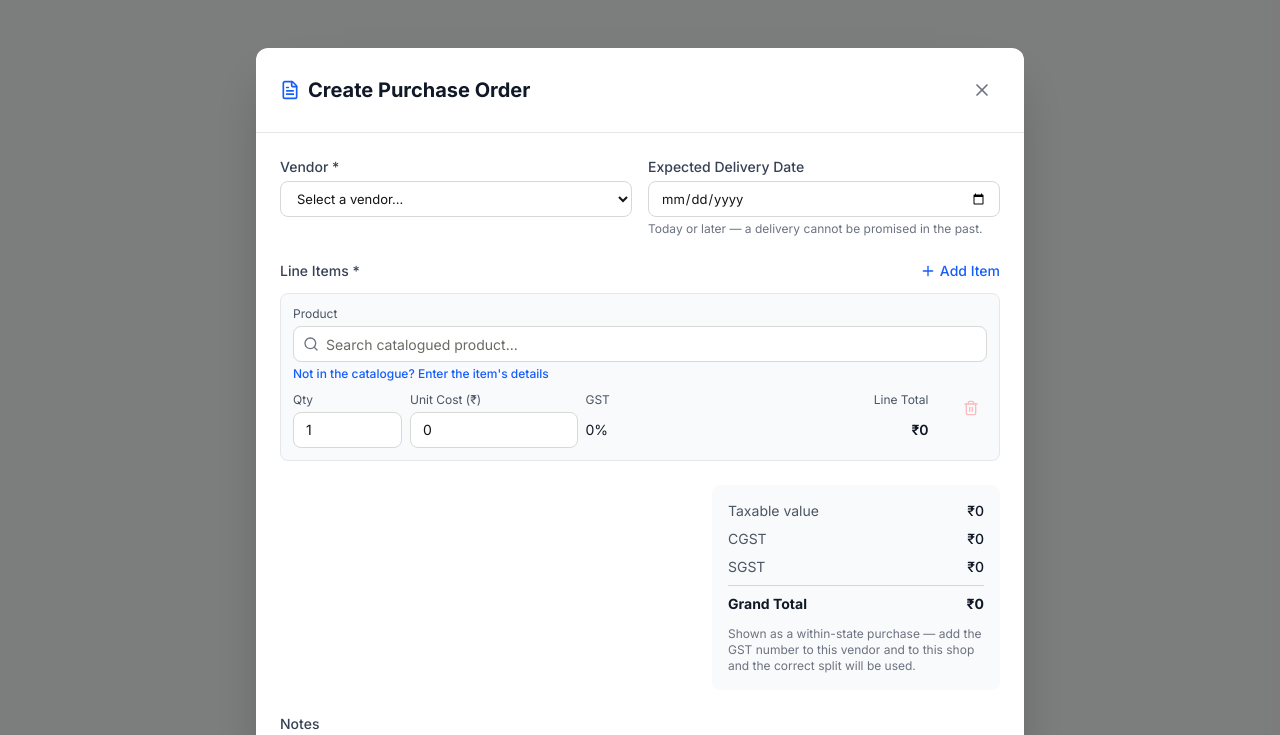
Test: F22 - the price last paid to THIS vendor wins over the catalogue cost › switching vendor after typing a cost shows THAT vendor's last price, never the previous one's
The image size is (1280, 735).
Select "Mumbai Lens House (V-MUM)" in the dropdown named "Vendor" at (456, 199), box [280,181,632,217]
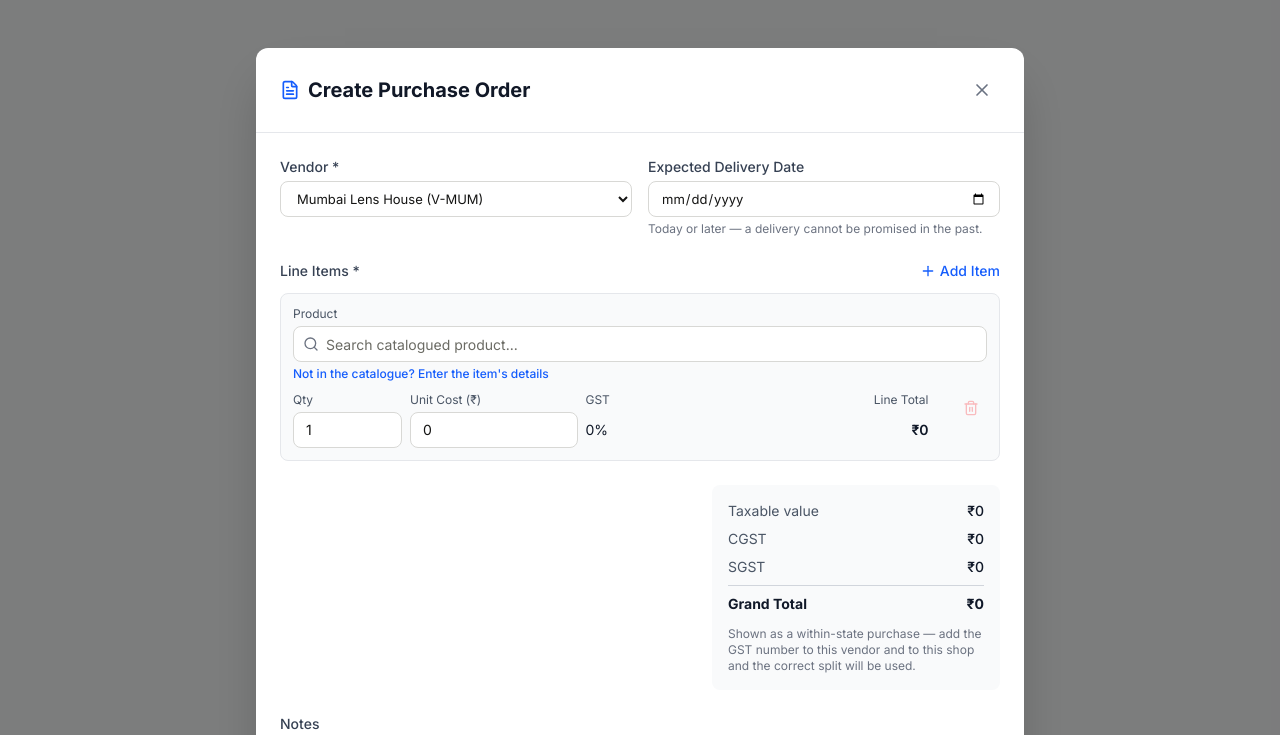
Type "8895" into the field with placeholder "Search catalogued product..." at (640, 344), box [293,326,987,362]
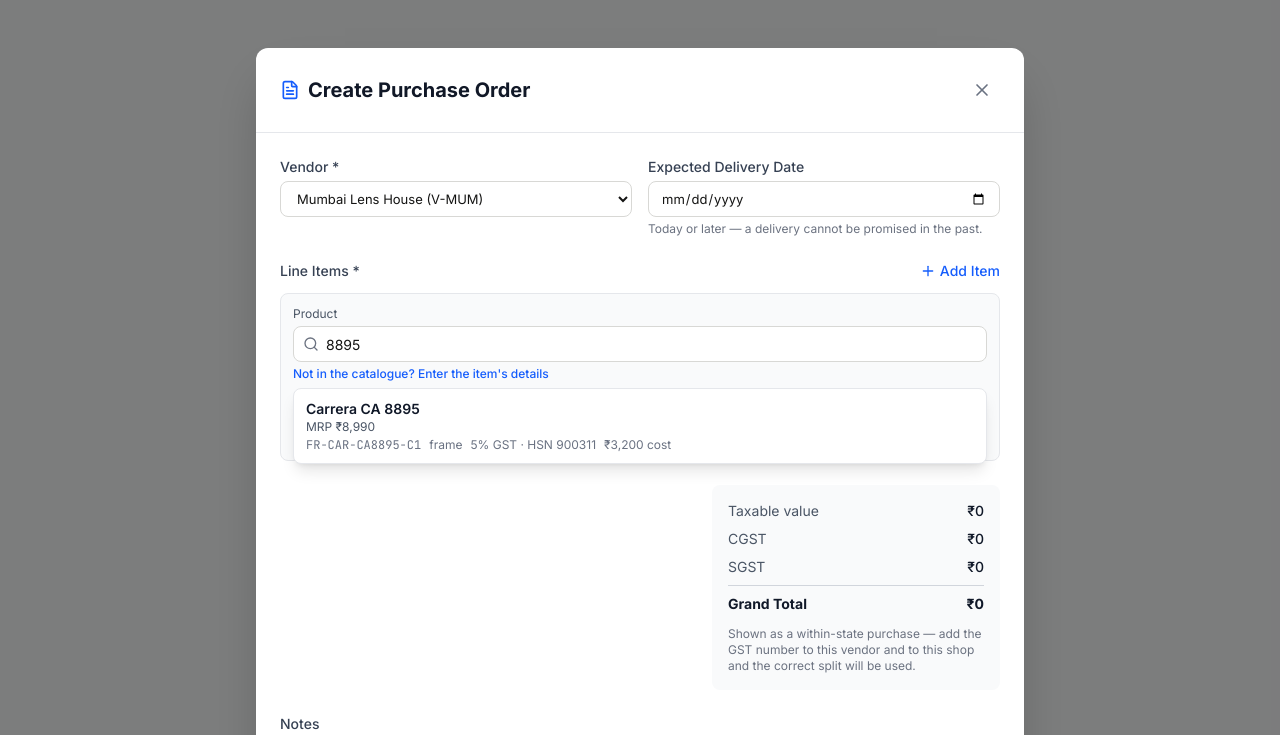
Click the button "Carrera CA 8895" at (363, 408), box [294,389,986,463]
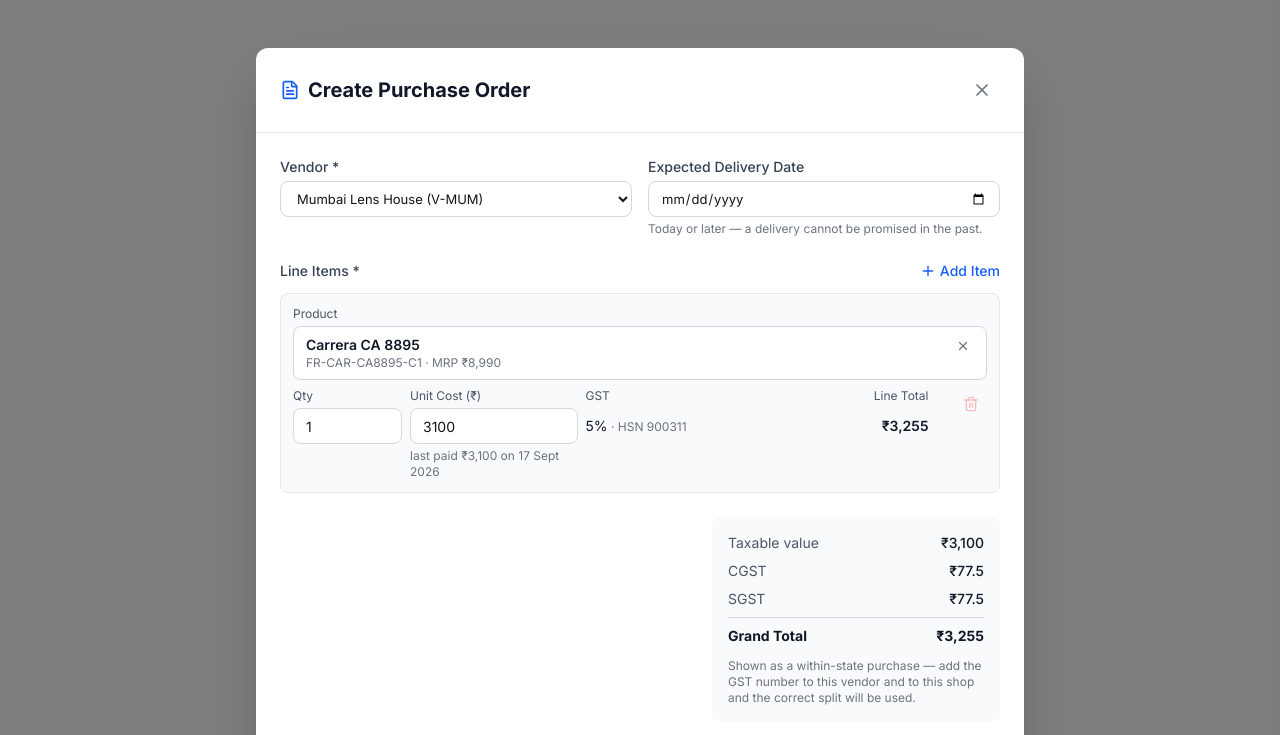
Check: the number field named "Unit cost for line 1" holds "3100"
Replace the text in the number field named "Unit cost for line 1" with "2950" at (494, 426), box [410,408,578,444]
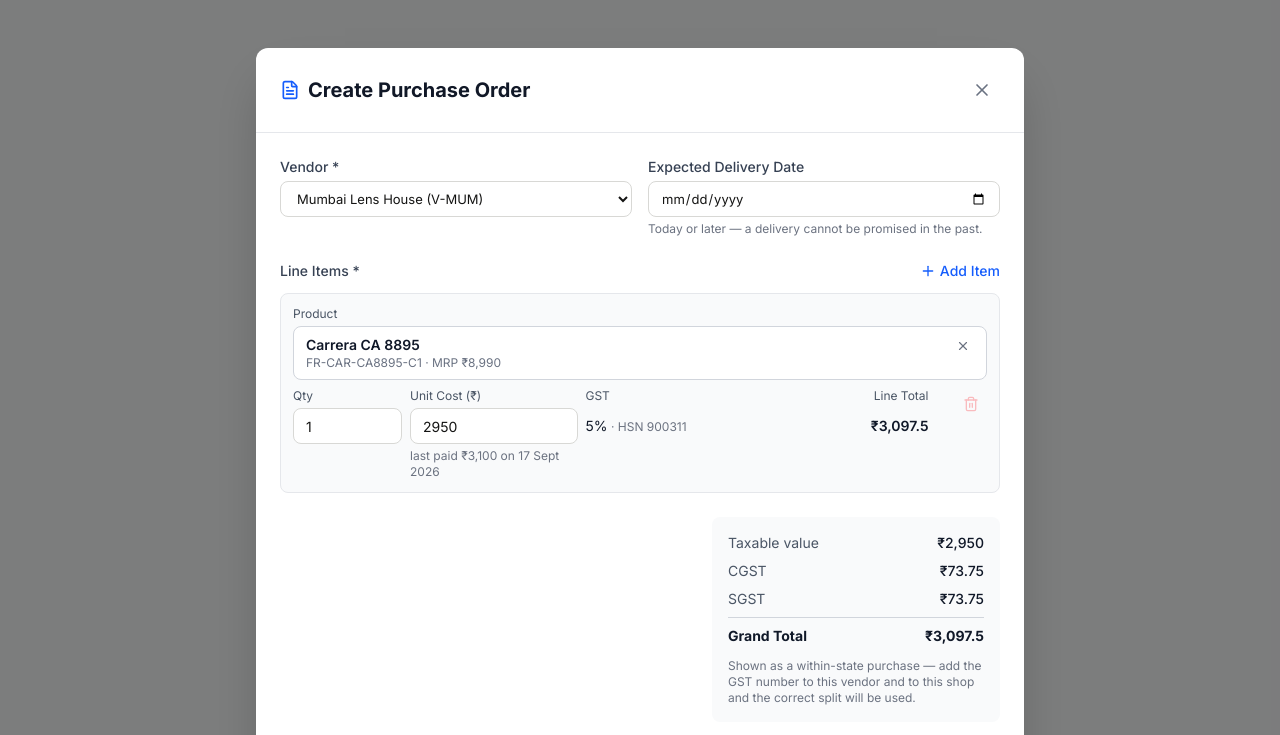
Select "Kolkata Frames (V-KOL)" in the dropdown named "Vendor" at (456, 199), box [280,181,632,217]
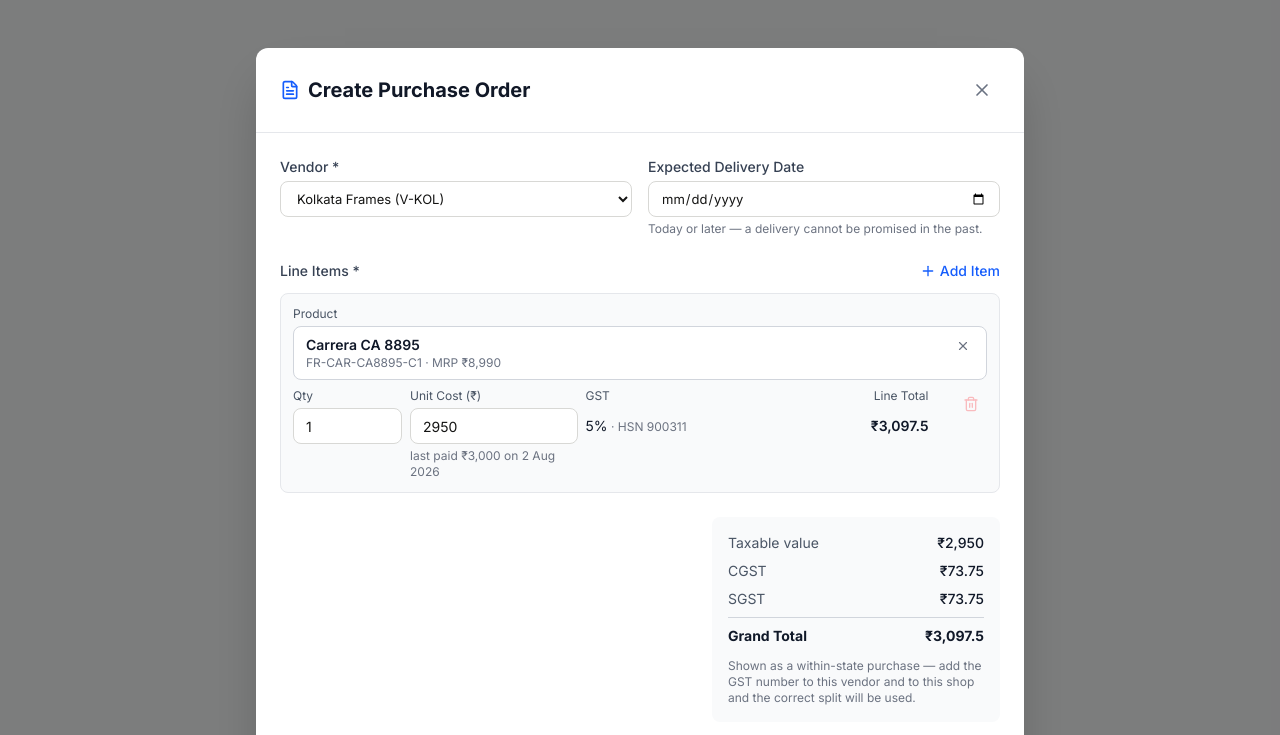
Check: the text "last paid ₹3,000 on 2 Aug 2026" is shown, box [410,448,578,480]
Check: the text "3,100" is gone
Select "Ranchi Optics (V-RNC)" in the dropdown named "Vendor" at (456, 199), box [280,181,632,217]
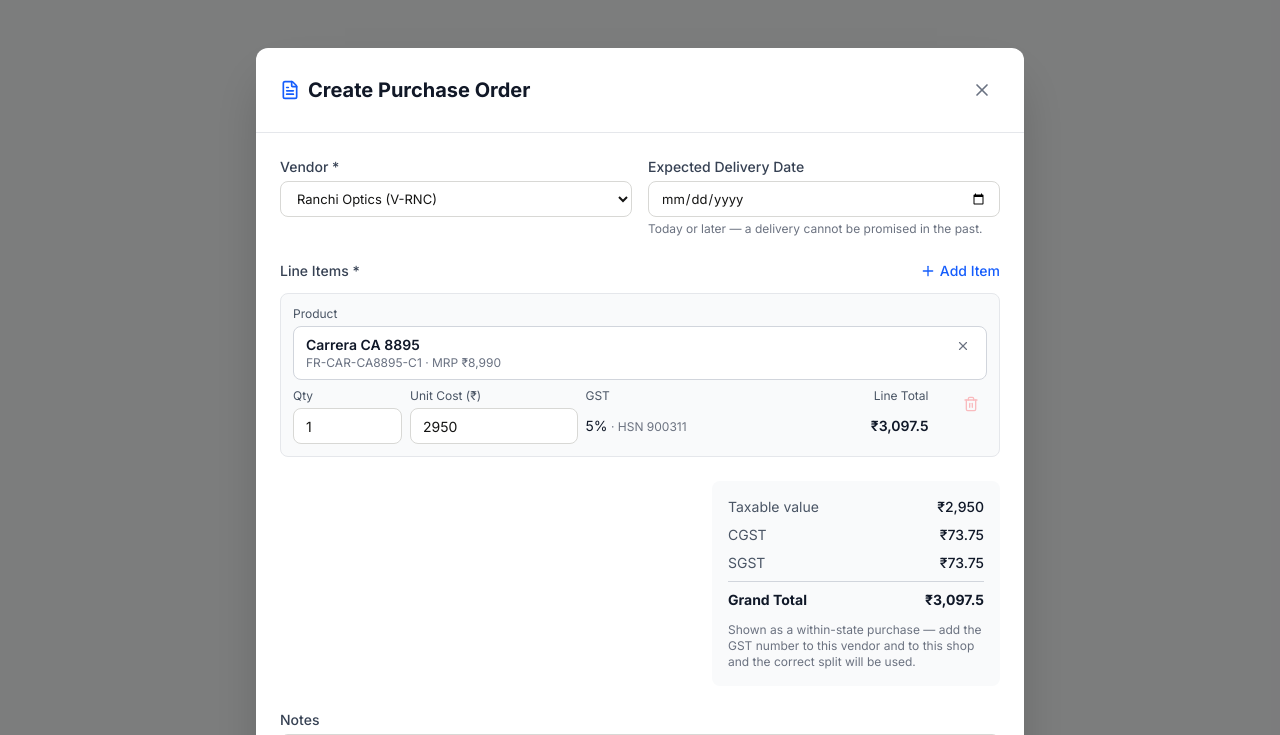
Check: the text "last paid" is gone
